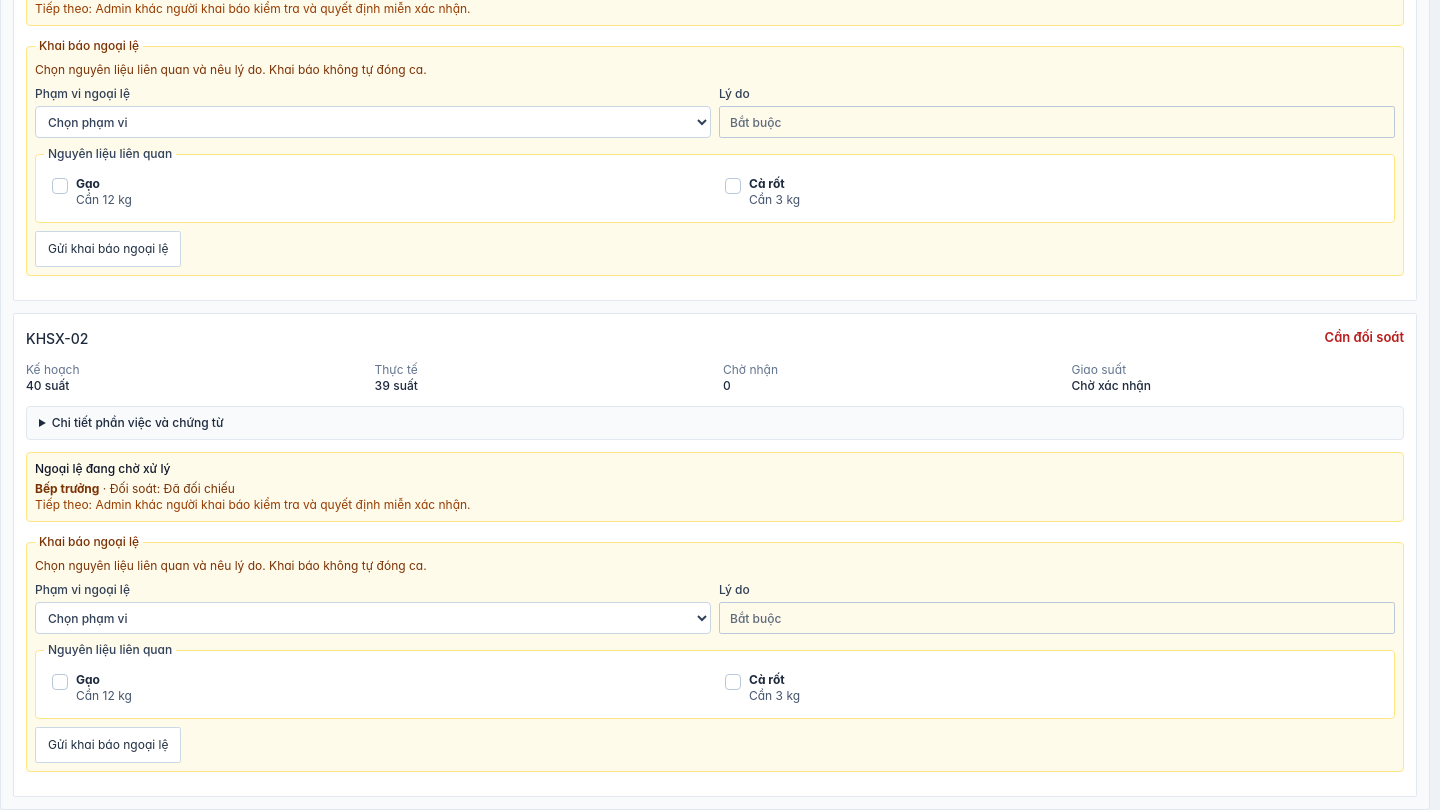
ServiceRun variance controls › keeps validation IDs and focus scoped to the submitted Service Run card
(page scrolled)
Click the 2nd button "Gửi khai báo ngoại lệ": click(108, 745) [35,727,181,763]
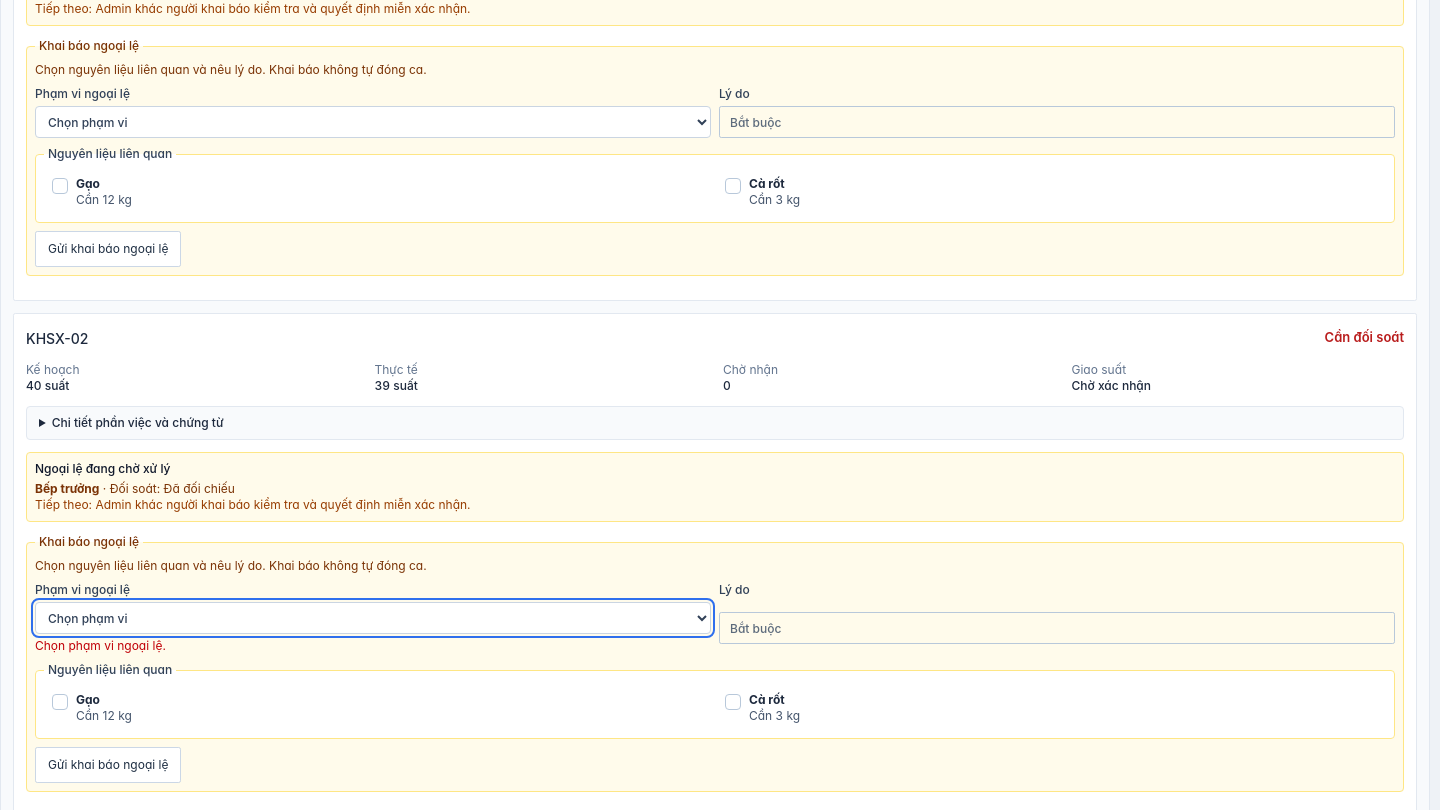
Result: the text "Chọn phạm vi ngoại lệ." is shown at [35,638,166,653]
